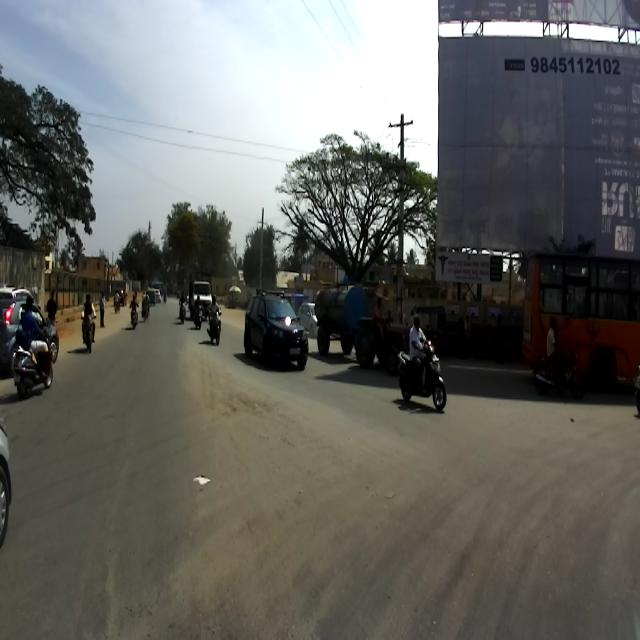car ahead at: (240, 282, 313, 386)
motorcycle ahead at: (394, 342, 450, 415)
